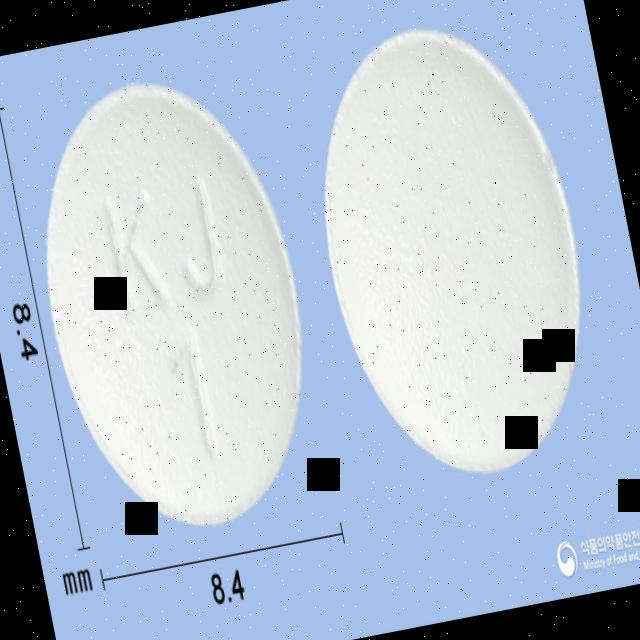Levocacin: (11, 59, 338, 548)
